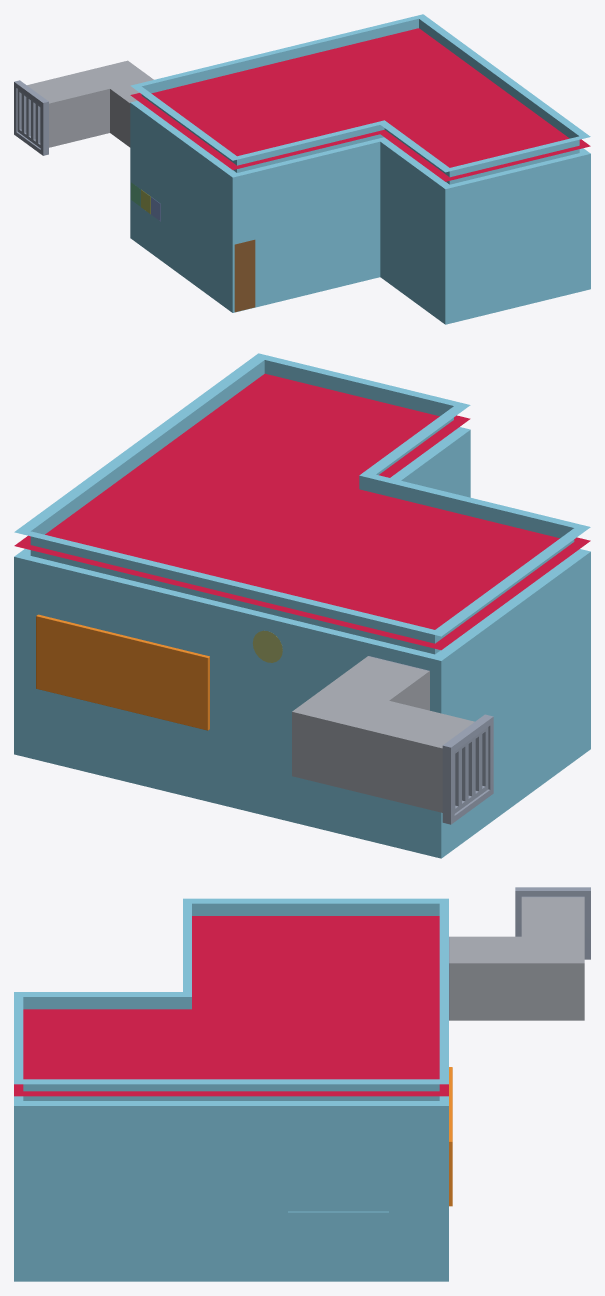
3 views of the same model, one above another, from view 1: azimuth 30°, elevation 25°; view 2: azimuth 150°, elevation 25°; view 3: azimuth 270°, elevation 25° (orthographic). The views are drawn at different scales.
Parts seen in each view (by area): view 1: Cube, Cube_375, Vent, Bookcase.009, Cube_320, Cube_004_1.001; view 2: Cube, Cube_375, Vent, Board.001, Cube_320, Cube_004_1.001, clock; view 3: Cube, Cube_375, Vent, Cube_320, Board.001.
Boxes of the visible parts, left/top/right/bottom form: Cube: left=130, top=14, right=590, bottom=324; Cube_375: left=130, top=28, right=590, bottom=181; Vent: left=27, top=60, right=153, bottom=147; Bookcase.009: left=234, top=239, right=255, bottom=312; Cube_320: left=14, top=80, right=48, bottom=155; Cube_004_1.001: left=17, top=89, right=40, bottom=147; Cube: left=14, top=353, right=590, bottom=858; Cube_375: left=14, top=373, right=590, bottom=650; Vent: left=292, top=656, right=474, bottom=812; Board.001: left=36, top=614, right=209, bottom=730; Cube_320: left=442, top=714, right=493, bottom=824; Cube_004_1.001: left=454, top=727, right=488, bottom=813; clock: left=252, top=630, right=282, bottom=662; Cube: left=14, top=898, right=448, bottom=1281; Cube_375: left=14, top=916, right=448, bottom=1096; Vent: left=450, top=897, right=584, bottom=1020; Cube_320: left=515, top=887, right=590, bottom=959; Board.001: left=449, top=1067, right=452, bottom=1206.
Size of the model in its own units: 22.35 by 9.23 by 24.28.
